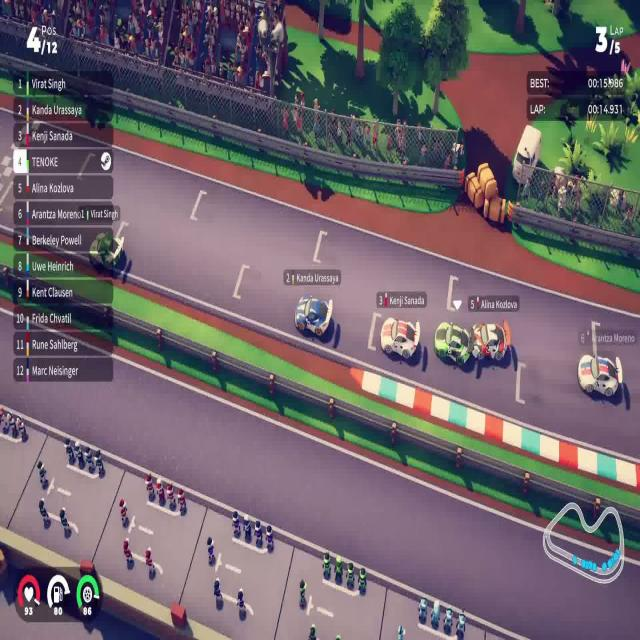car: (578, 350, 622, 400), (379, 316, 421, 361), (433, 320, 471, 367), (293, 294, 333, 338), (470, 320, 508, 363), (88, 230, 125, 271)
